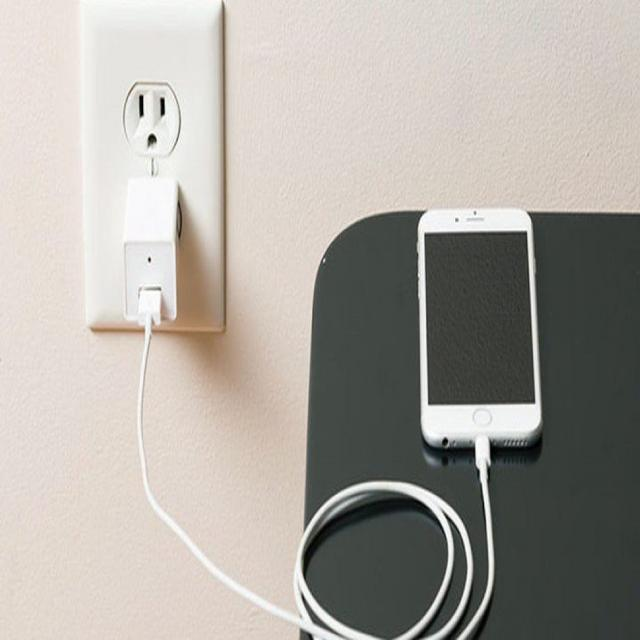battery charger: (70, 98, 224, 411), (426, 430, 521, 556)
phone: (414, 199, 544, 457)
